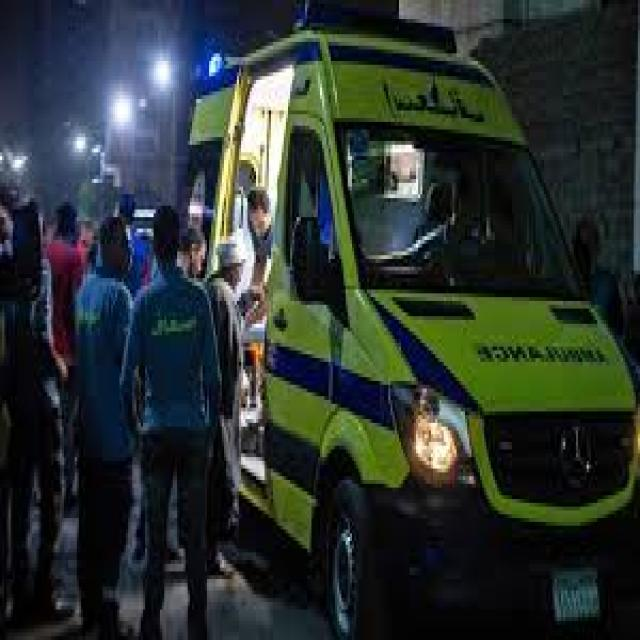Ambulance: (229, 34, 591, 640)
person: (120, 177, 216, 604), (53, 215, 144, 589), (239, 167, 294, 319)
